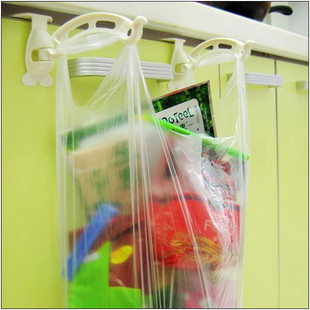plastic bag: (56, 34, 248, 310)
